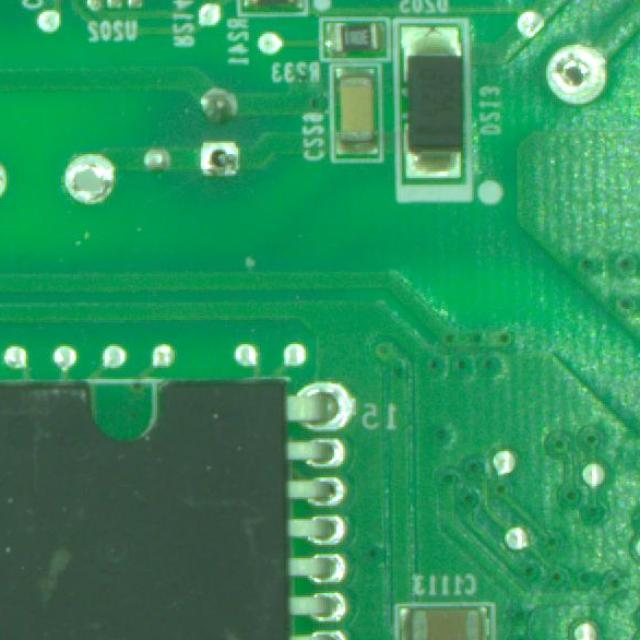oppostie_direction: (546, 45, 606, 104), (203, 141, 239, 176), (201, 87, 237, 122)
